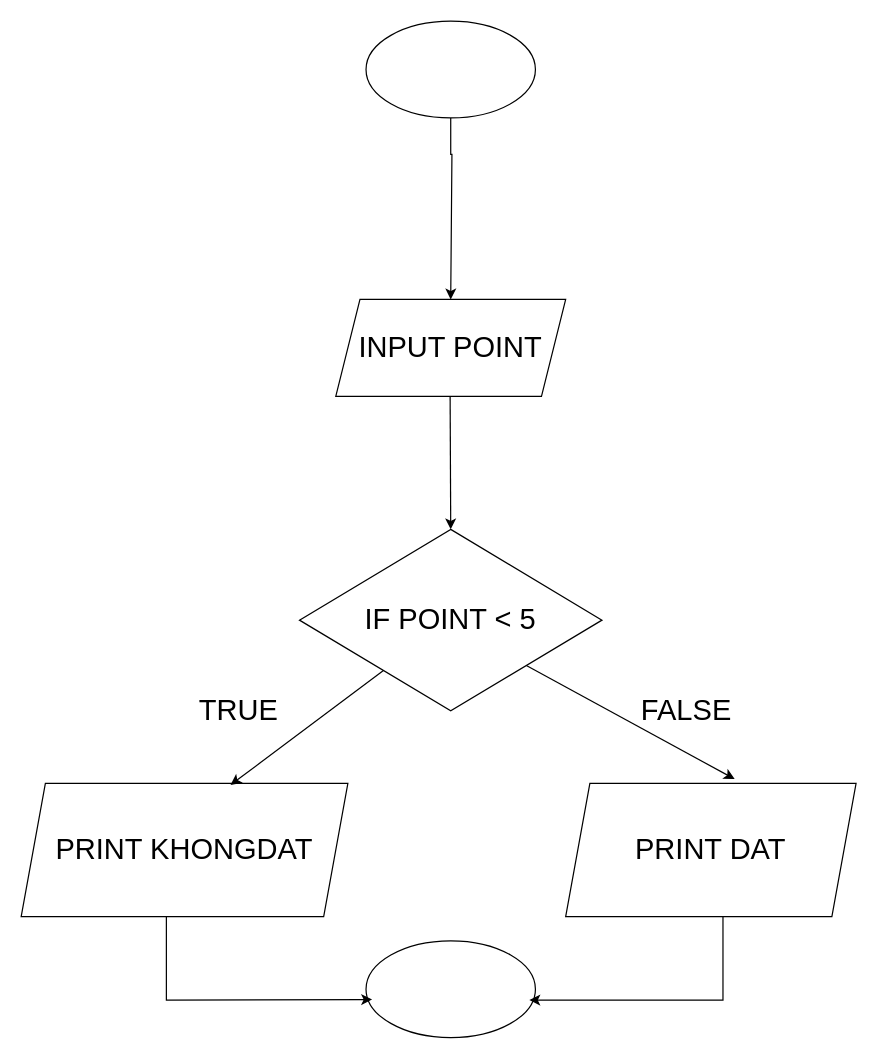
Some shapes in this 877 by 1059 pixel diagram are drawn without their labels. Each missing label, with the box of its shape:
END: (365, 940, 535, 1038)
START: (365, 20, 535, 118)
